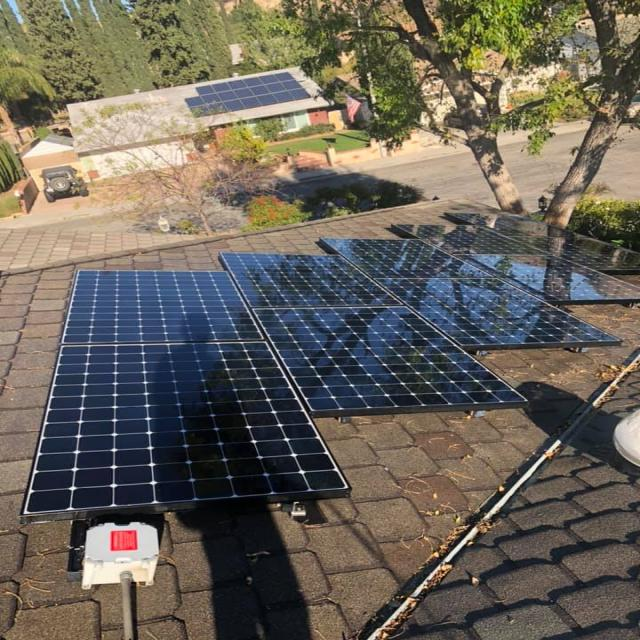clean-solar-panel: (22, 270, 347, 521), (222, 254, 527, 416), (322, 239, 620, 350)
